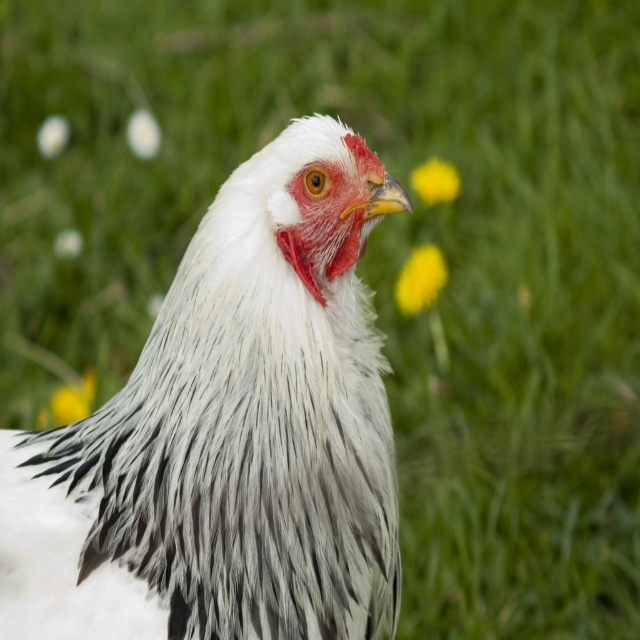Chicken: (0, 112, 414, 640)
